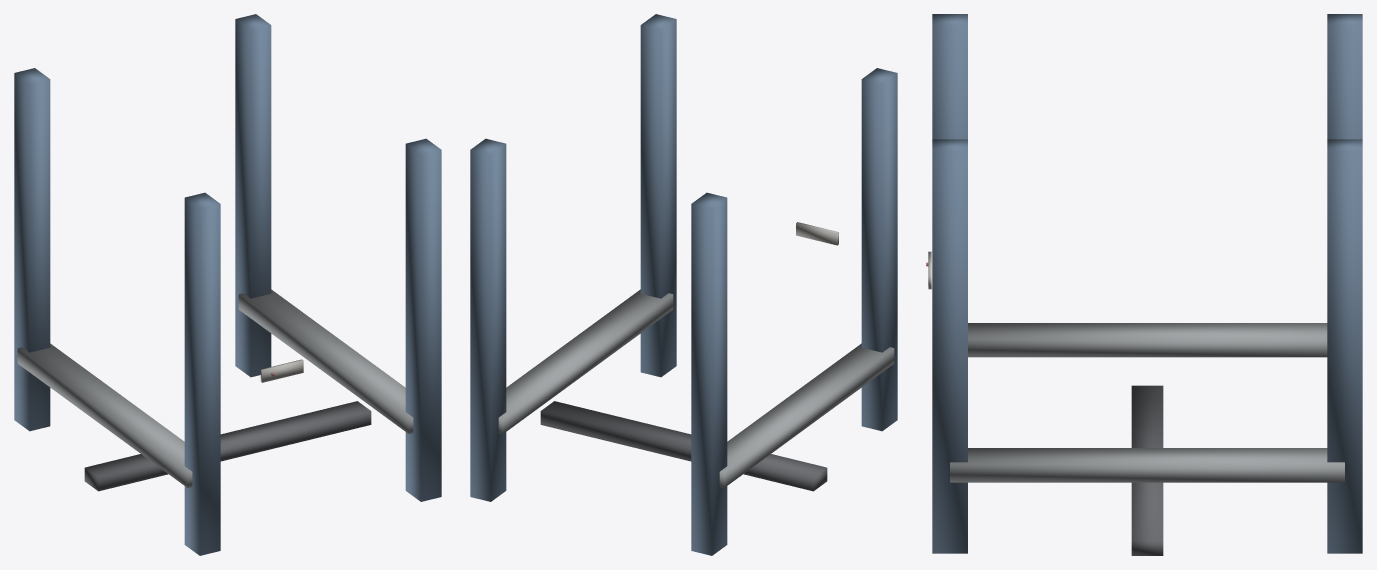
Rendered from four_post_car_lift.glb.
The picture shows the model from 3 angles, left to right: view 1: azimuth 30°, elevation 25°; view 2: azimuth 150°, elevation 25°; view 3: azimuth 270°, elevation 25°; orthographic projection. The views are drawn at different scales.
Visible parts, largest first — view 1: world; view 2: world; view 3: world.
Boxes of the visible parts, left/top/right/bottom form: world: left=14, top=14, right=441, bottom=555; world: left=470, top=14, right=897, bottom=555; world: left=926, top=14, right=1362, bottom=555.
Bounding box in the file's own units: 1.85 × 2.25 × 2.21.
